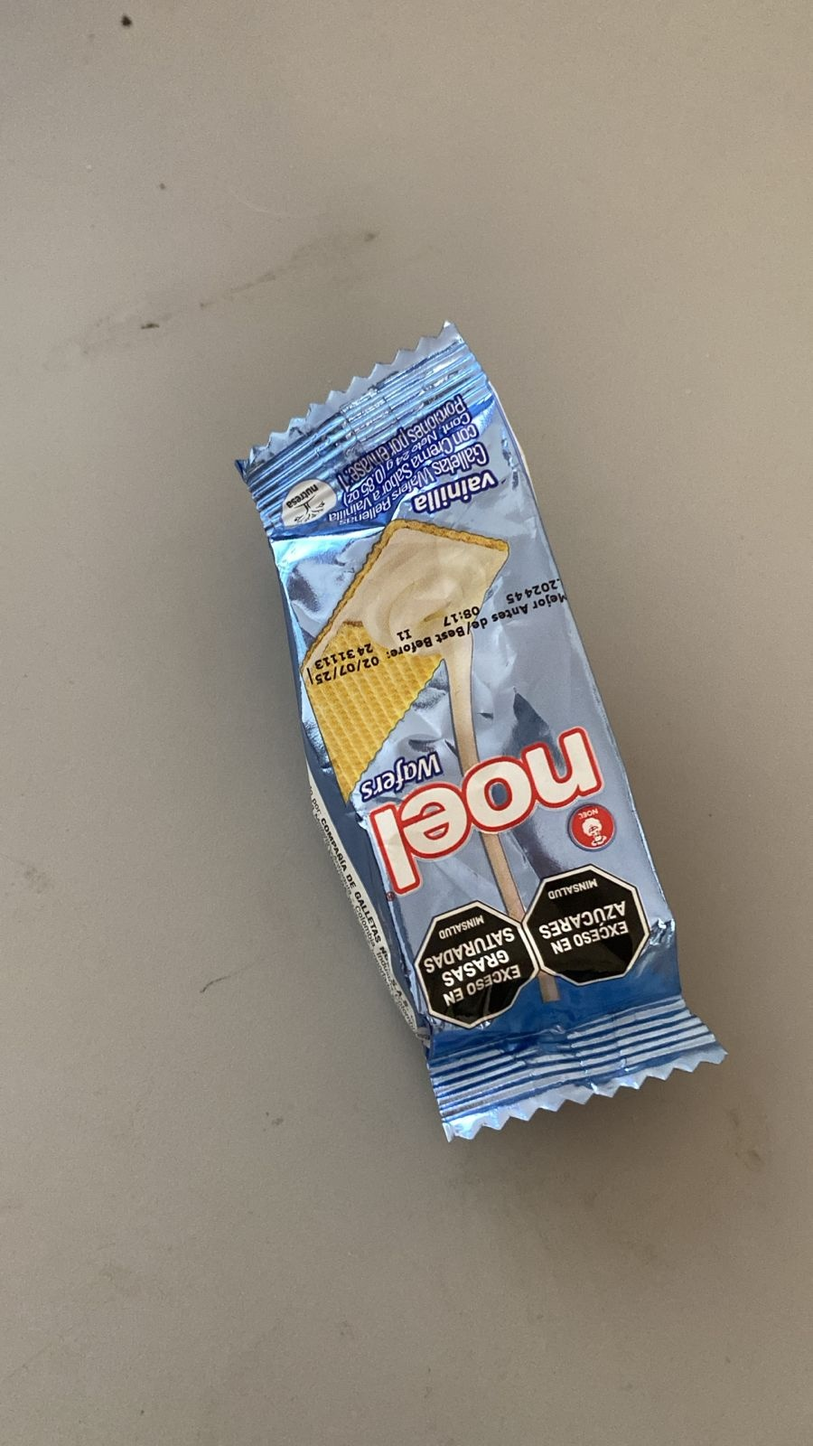Ordinario: (232, 325, 732, 1146)
